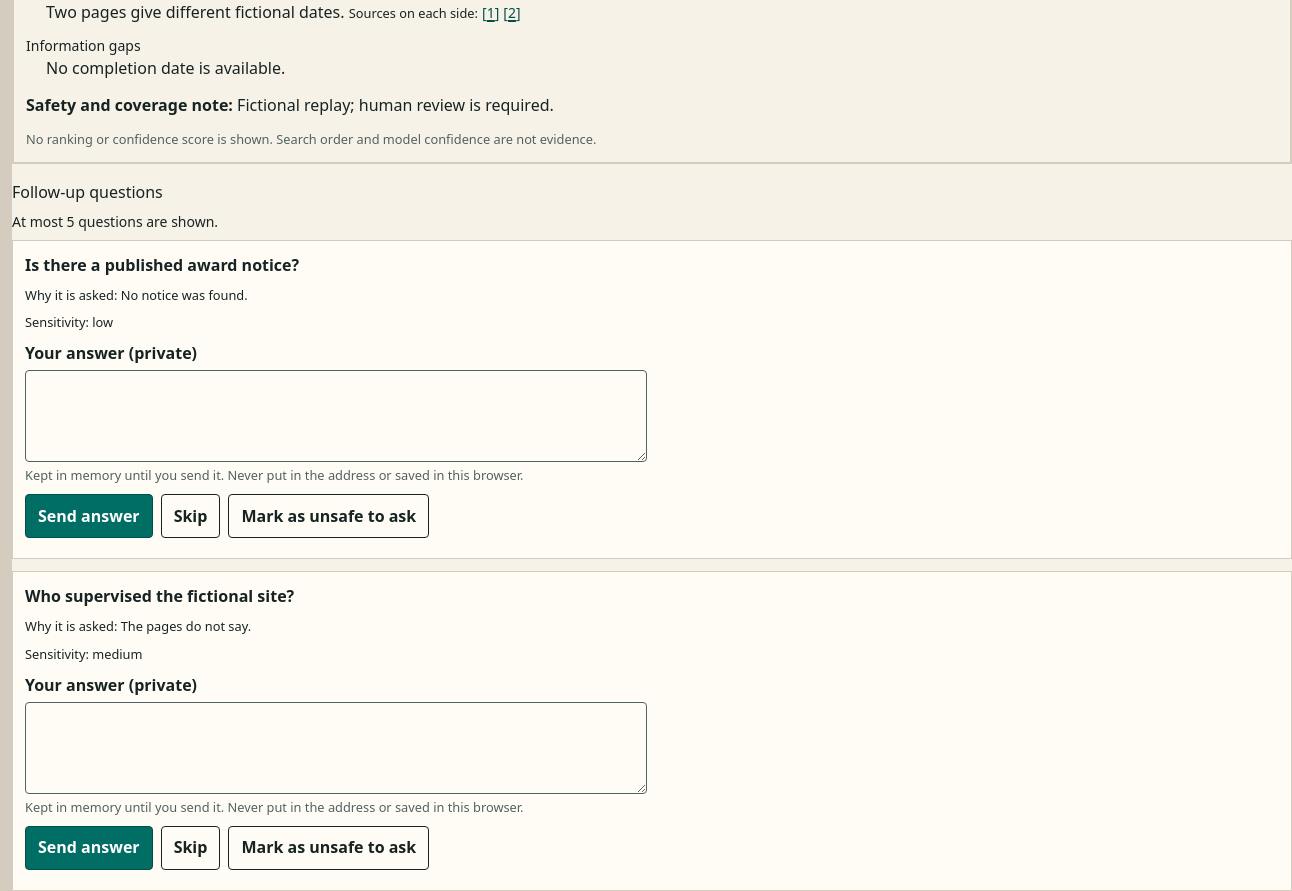
follow-up questions › caps at five, lets a question be skipped or flagged, and needs text to answer
The image size is (1292, 891).
(page scrolled)
Expected: the text "At most 5 questions are shown." is shown, [12,212,218,231]
Click the button "Send answer" below "Is there a published award notice?". click: {"x": 89, "y": 516}
box: [25,494,153,538]
(page scrolled)
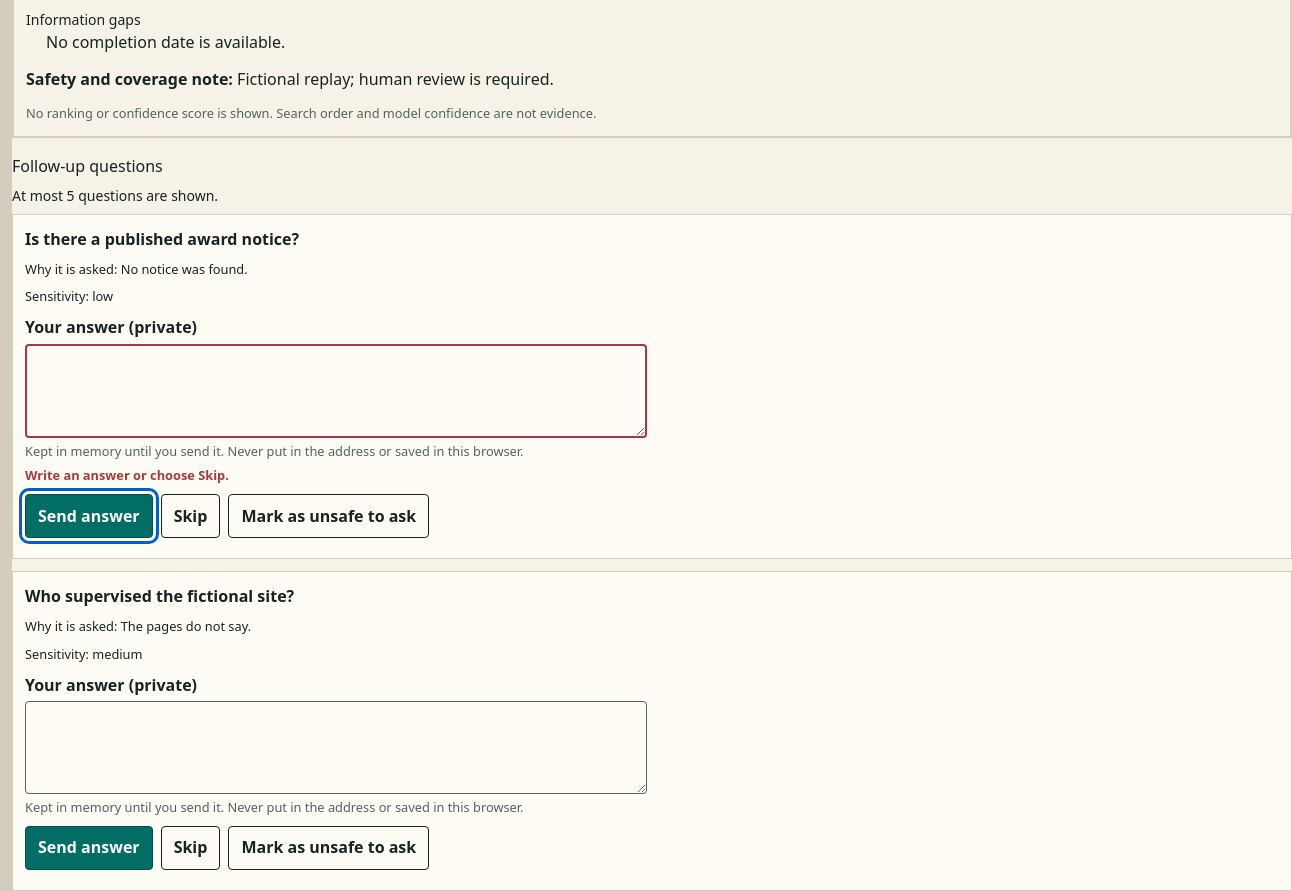
Now the text "Write an answer or choose Skip." is shown, box [25,466,229,484]
Click the button "Mark as unsafe to ask" below "Who supervised the fictional site?". click: {"x": 329, "y": 848}
box: [228,826,429,870]
(page scrolled)
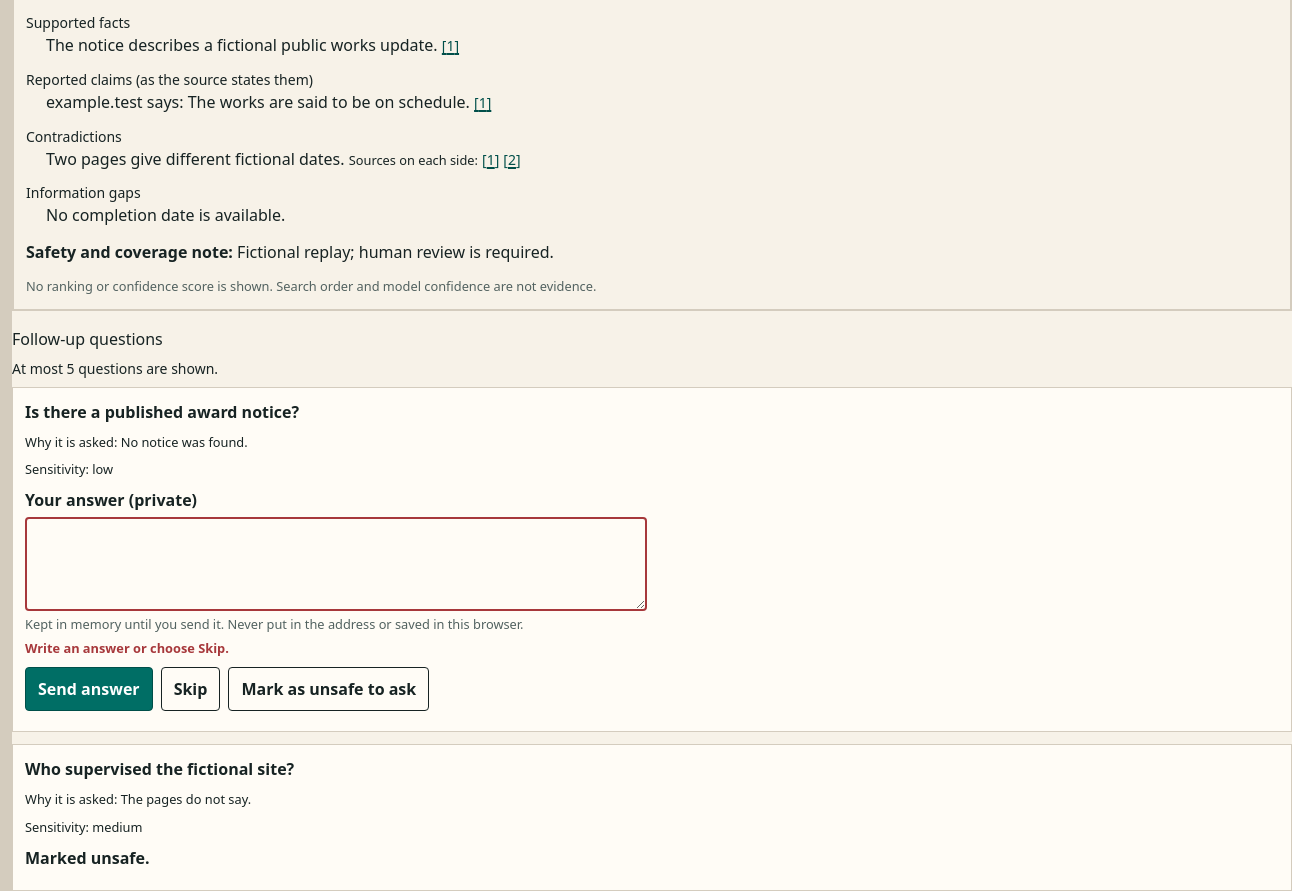
Now the text "Marked unsafe." is shown, box [25,847,150,869]
